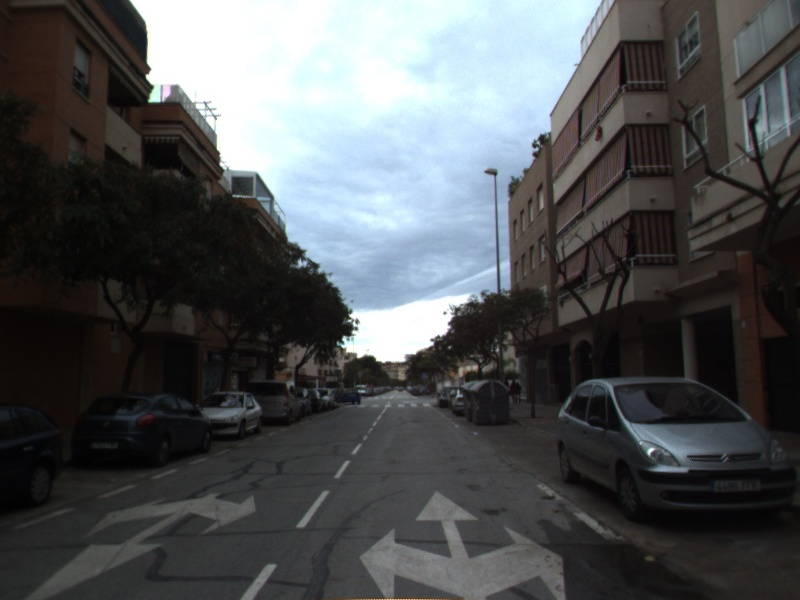STRAIGHT_LEFT_RIGHT: (355, 487, 568, 600)
